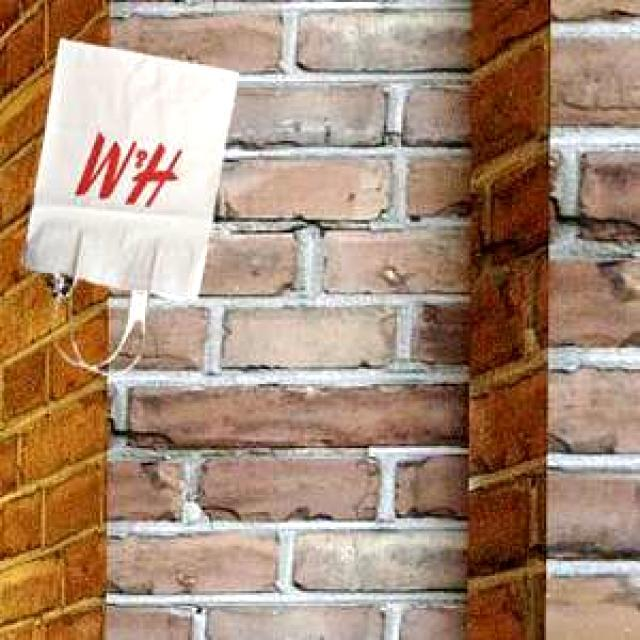Paper_Bag: (16, 35, 236, 336)
